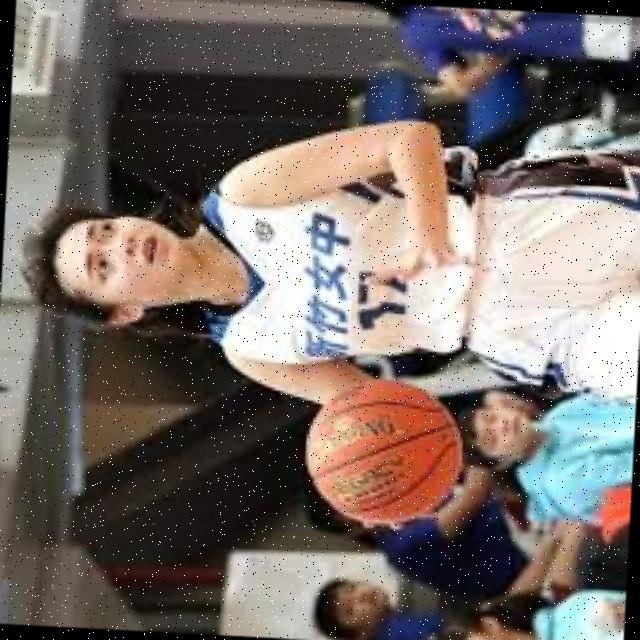ball: (303, 374, 466, 524)
